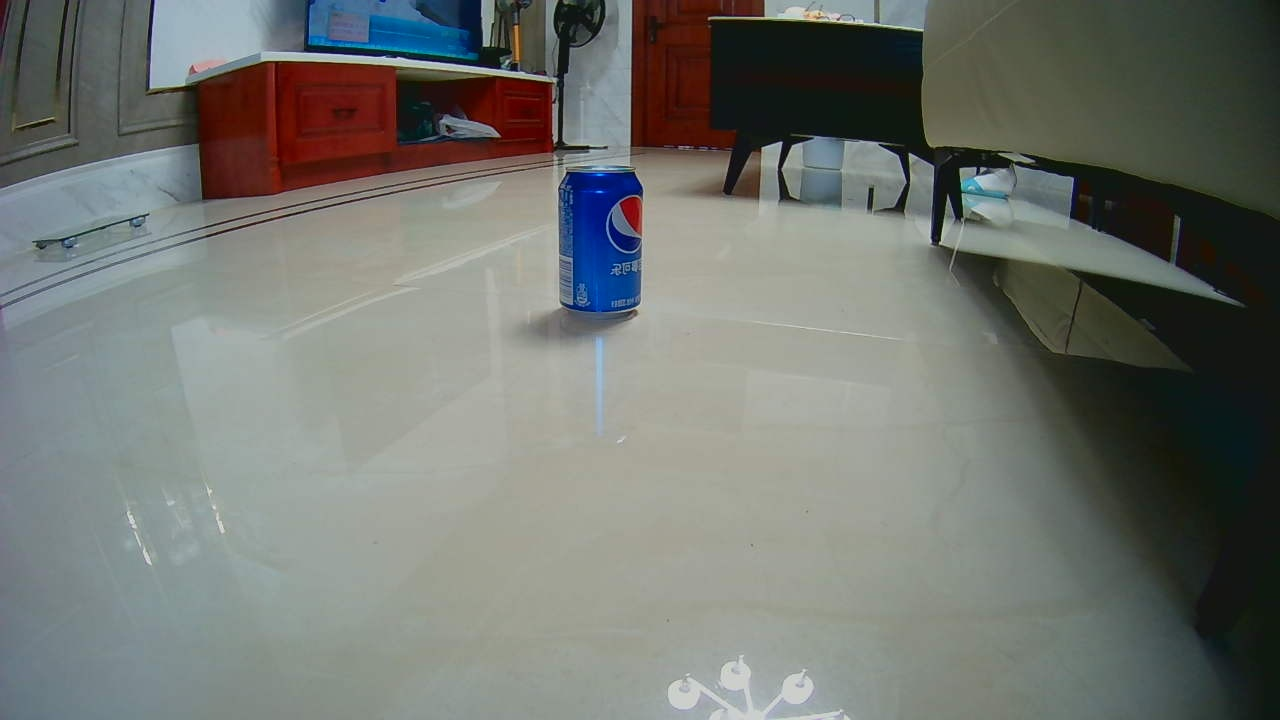pessi: (553, 167, 647, 314)
